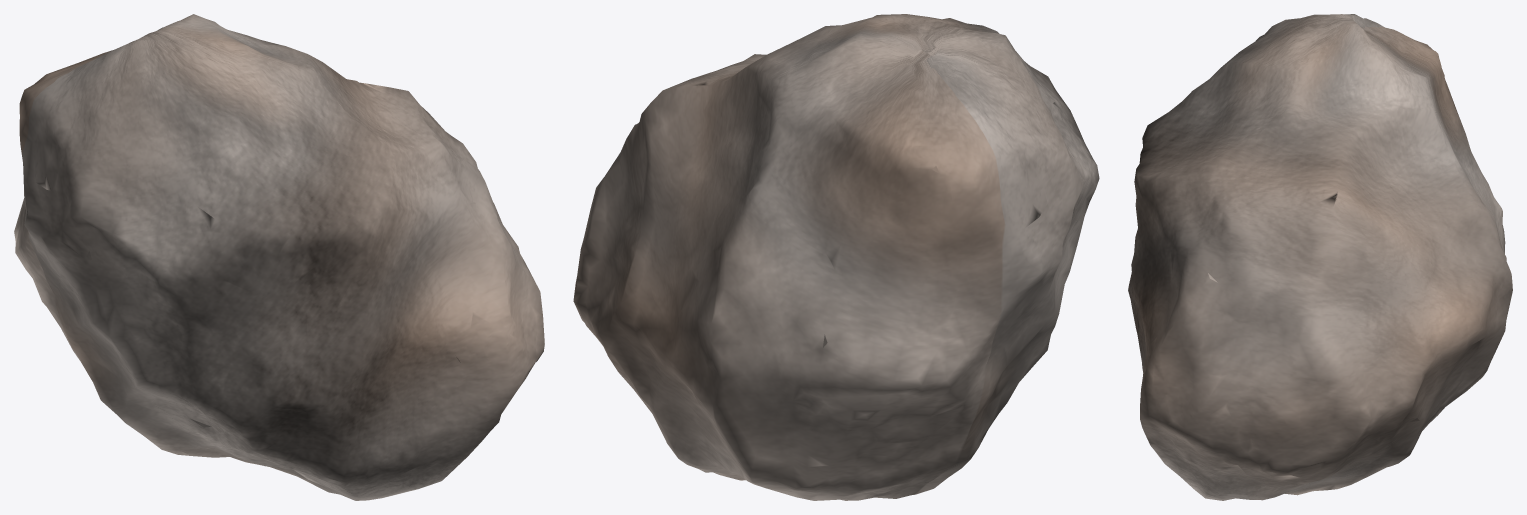
The model's file is Asteroid2.dae.
3 renders of one model, left to right at view 1: azimuth 30°, elevation 25°; view 2: azimuth 150°, elevation 25°; view 3: azimuth 270°, elevation 25°, orthographic. The views are drawn at different scales.
Visible parts, largest first — view 1: rock; view 2: rock; view 3: rock.
Boxes of the visible parts, left/top/right/bottom form: rock: left=14, top=14, right=544, bottom=500; rock: left=573, top=14, right=1099, bottom=500; rock: left=1128, top=14, right=1512, bottom=500.
Bounding box in the file's own units: 2.91 × 2.48 × 2.87.
